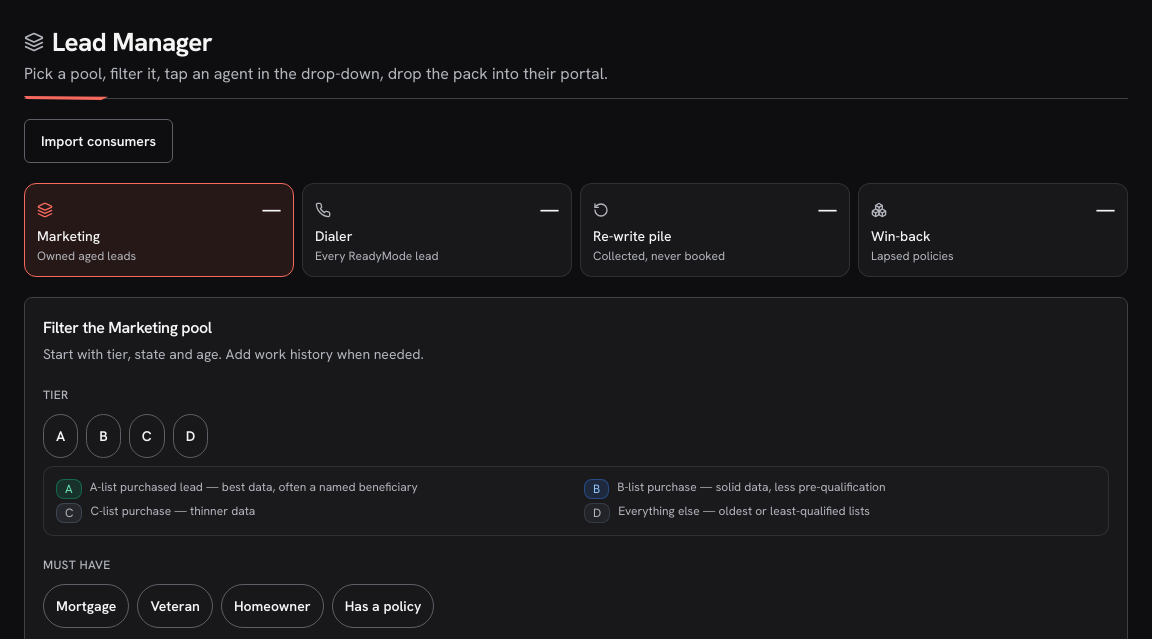
Lead Manager pools › shows what every tier means without a tap, for the pool on screen
Expected: the text "A-list purchased lead — best data, often a named beneficiary" is shown, [90,479,418,495]
Expected: the number of list items is 4, [56,479,418,499]; [584,479,886,499]; [56,503,255,523]; [584,503,870,523]
Click the button "— Dialer Every ReadyMode lead" at [334, 236], box [302,183,572,277]
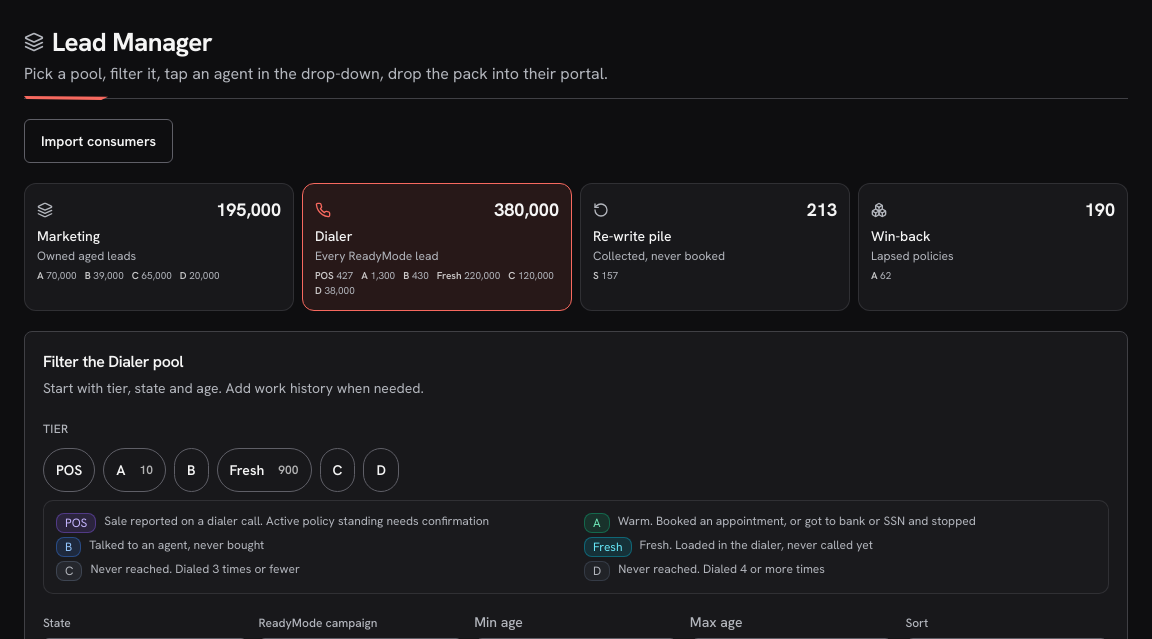
Expected: the text "Fresh. Loaded in the dialer, never called yet" is shown, [640,537,873,553]
Expected: the number of list items is 6, [56,513,489,533]; [584,513,976,533]; [56,537,264,557]; [584,537,873,557]; [56,561,300,581]; [584,561,825,581]
